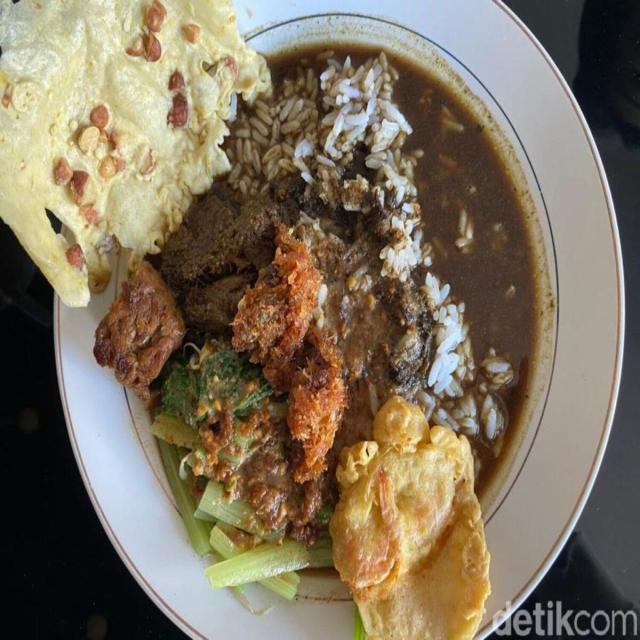Rawon: (141, 72, 551, 556)
